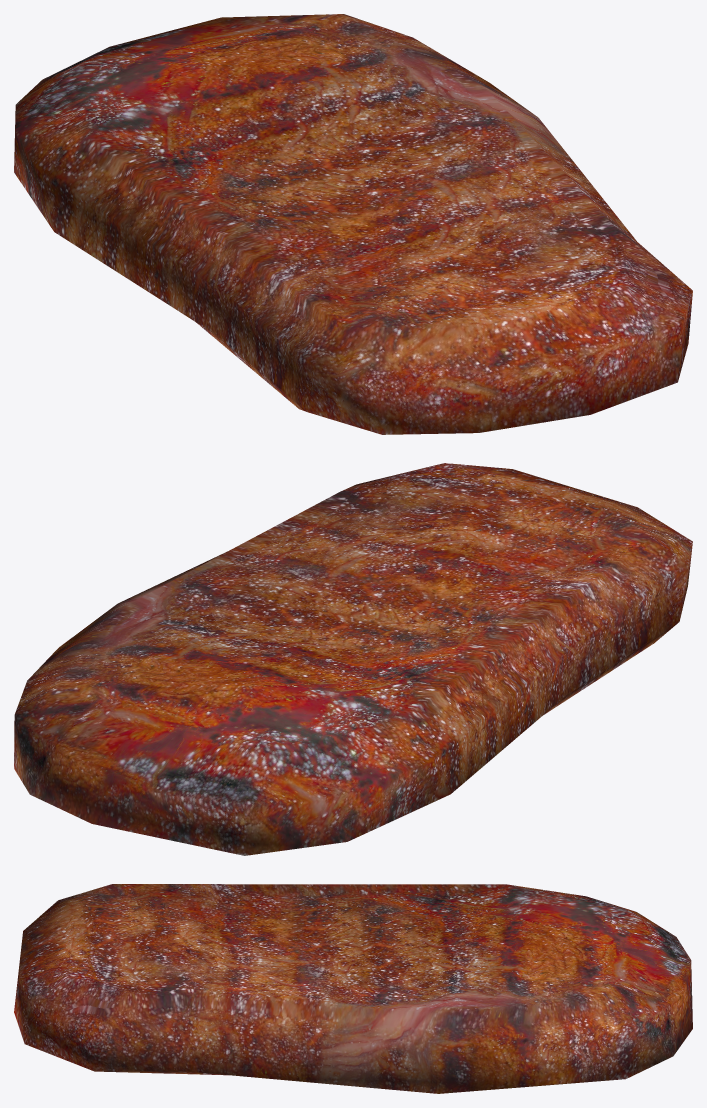
Rendered from Steak.glb.
The picture shows the model from 3 angles, top to bottom: view 1: azimuth 30°, elevation 25°; view 2: azimuth 150°, elevation 25°; view 3: azimuth 270°, elevation 25°; orthographic projection. The views are drawn at different scales.
Parts seen in each view (by area): view 1: SM_Steak; view 2: SM_Steak; view 3: SM_Steak.
Boxes of the visible parts, <box> form: SM_Steak: <box>14,14,692,434</box>; SM_Steak: <box>14,463,692,855</box>; SM_Steak: <box>14,884,692,1093</box>.
Size of the model in its own units: 0.0908 by 0.0248 by 0.1635.
1 material, 1 textured.
